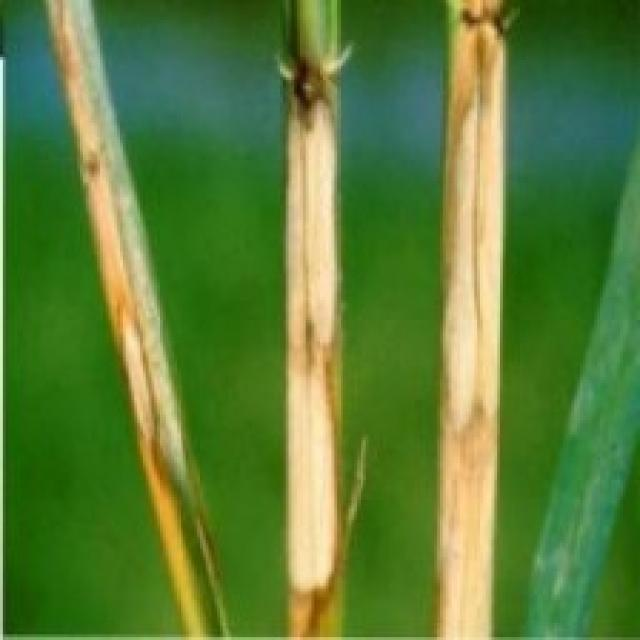Bacterial_Blight: (27, 0, 230, 640), (276, 11, 348, 640), (438, 1, 507, 640)
